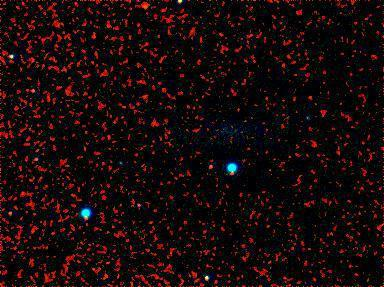star: (129, 0, 159, 24)
